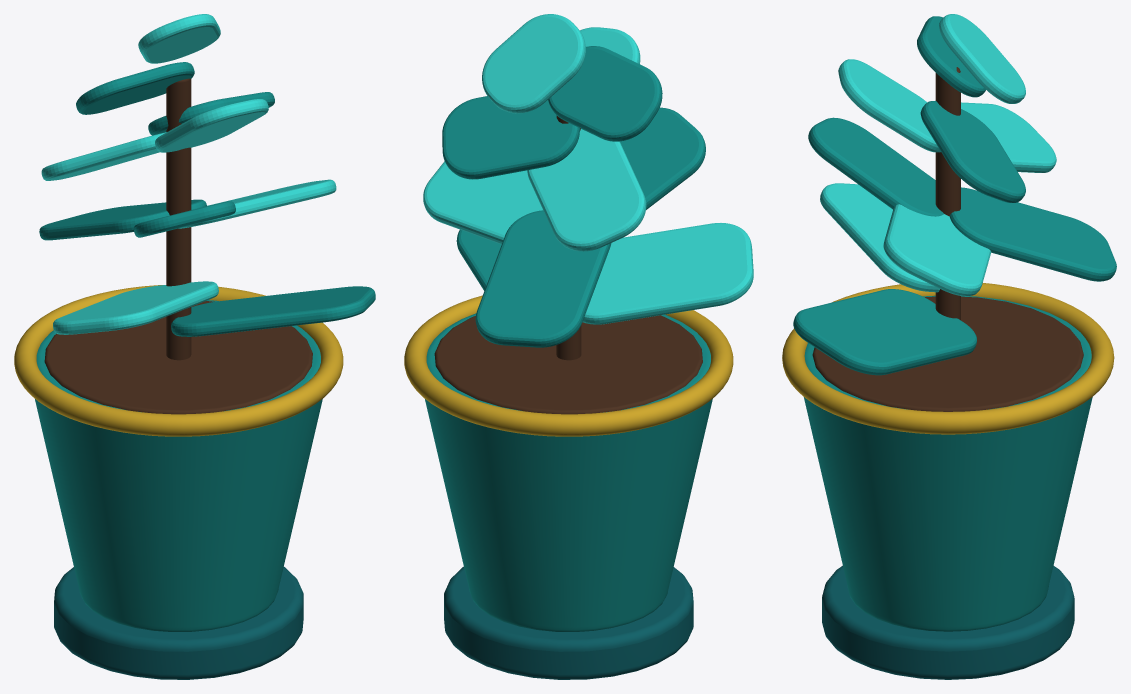
Rendered from lobby-planter.glb.
The picture shows the model from 3 angles, left to right: view 1: azimuth 30°, elevation 25°; view 2: azimuth 150°, elevation 25°; view 3: azimuth 270°, elevation 25°; orthographic projection.
Parts seen in each view (by area): view 1: urn, urn.soil, foot, urn.rim, leaf.1, trunk, leaf.2, leaf.9, leaf.8, leaf.3, leaf.10, leaf.6 (+3 smaller); view 2: urn, urn.soil, foot, leaf.2, leaf.3, urn.rim, leaf.6, leaf.7, leaf.9, leaf.10, leaf.4, leaf.5 (+3 smaller); view 3: urn, urn.soil, foot, urn.rim, leaf.1, leaf.3, leaf.5, leaf.4, leaf.7, leaf.8, leaf.2, leaf.10 (+3 smaller).
Boxes of the visible parts, <box> form: urn: <box>35,300,322,631</box>; urn.soil: <box>44,301,312,414</box>; foot: <box>54,567,303,679</box>; urn.rim: <box>14,285,343,436</box>; leaf.1: <box>171,286,375,336</box>; trunk: <box>166,78,191,360</box>; leaf.2: <box>53,281,218,334</box>; leaf.9: <box>76,62,194,114</box>; leaf.8: <box>155,99,268,152</box>; leaf.3: <box>39,199,206,240</box>; leaf.10: <box>138,14,220,63</box>; leaf.6: <box>41,132,166,180</box>; urn: <box>425,313,712,631</box>; urn.soil: <box>434,315,702,414</box>; foot: <box>444,566,693,679</box>; leaf.2: <box>582,223,753,324</box>; leaf.3: <box>475,210,611,347</box>; urn.rim: <box>404,295,733,436</box>; leaf.6: <box>527,129,646,251</box>; leaf.7: <box>442,96,579,179</box>; leaf.9: <box>548,46,662,141</box>; leaf.10: <box>482,14,585,113</box>; leaf.4: <box>423,161,542,244</box>; leaf.5: <box>620,107,705,209</box>; urn: <box>804,295,1092,631</box>; urn.soil: <box>812,296,1083,411</box>; foot: <box>822,565,1074,679</box>; urn.rim: <box>782,283,1114,434</box>; leaf.1: <box>793,289,976,375</box>; leaf.3: <box>949,187,1116,281</box>; leaf.5: <box>808,117,943,216</box>; leaf.4: <box>883,204,991,296</box>; leaf.7: <box>920,101,1025,202</box>; leaf.8: <box>838,59,940,152</box>; leaf.2: <box>820,183,939,292</box>; leaf.10: <box>939,14,1025,103</box>.
Size of the model in its own units: 0.5537 by 1.08 by 0.53.
